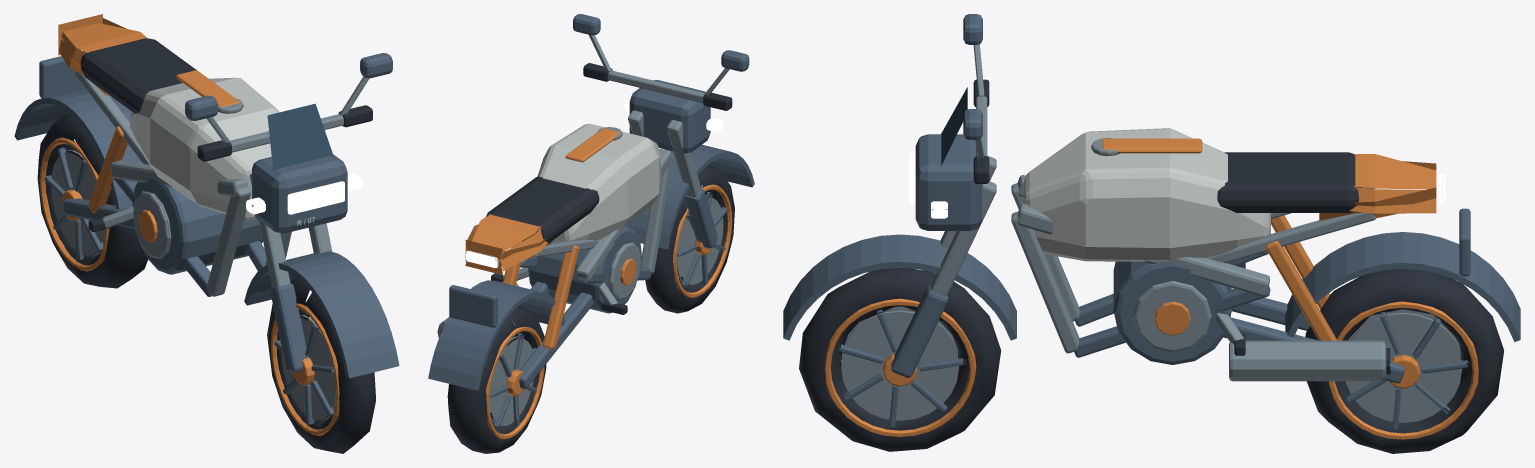
The model's file is motorbike.glb.
3 renders of one model, left to right at view 1: azimuth 30°, elevation 25°; view 2: azimuth 150°, elevation 25°; view 3: azimuth 270°, elevation 25°, orthographic. The views are drawn at different scales.
Parts seen in each view (by area): view 1: Body, Wheel_F, Wheel_R, Signal; view 2: Body, Wheel_R, Wheel_F, Signal; view 3: Body, Wheel_F, Wheel_R, Signal.
Boxes of the visible parts, left/top/right/bottom form: Body: left=14, top=14, right=399, bottom=378; Wheel_F: left=267, top=278, right=375, bottom=453; Wheel_R: left=37, top=114, right=147, bottom=288; Signal: left=246, top=174, right=362, bottom=214; Body: left=428, top=14, right=754, bottom=390; Wheel_R: left=447, top=306, right=546, bottom=453; Wheel_F: left=645, top=165, right=734, bottom=313; Signal: left=466, top=98, right=723, bottom=267; Body: left=783, top=14, right=1520, bottom=383; Wheel_F: left=799, top=268, right=1001, bottom=451; Wheel_R: left=1305, top=269, right=1504, bottom=453; Signal: left=909, top=152, right=1445, bottom=218.
Size of the model in its own units: 0.93 by 1.51 by 2.62.
